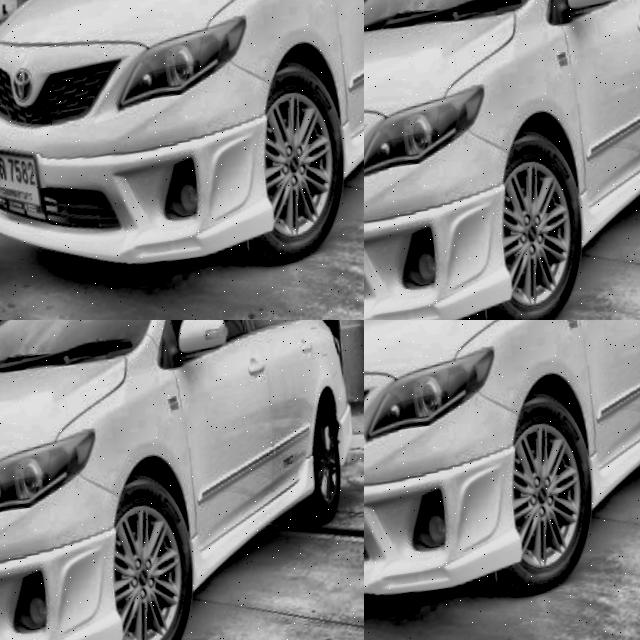license-plate: (0, 0, 364, 274)
